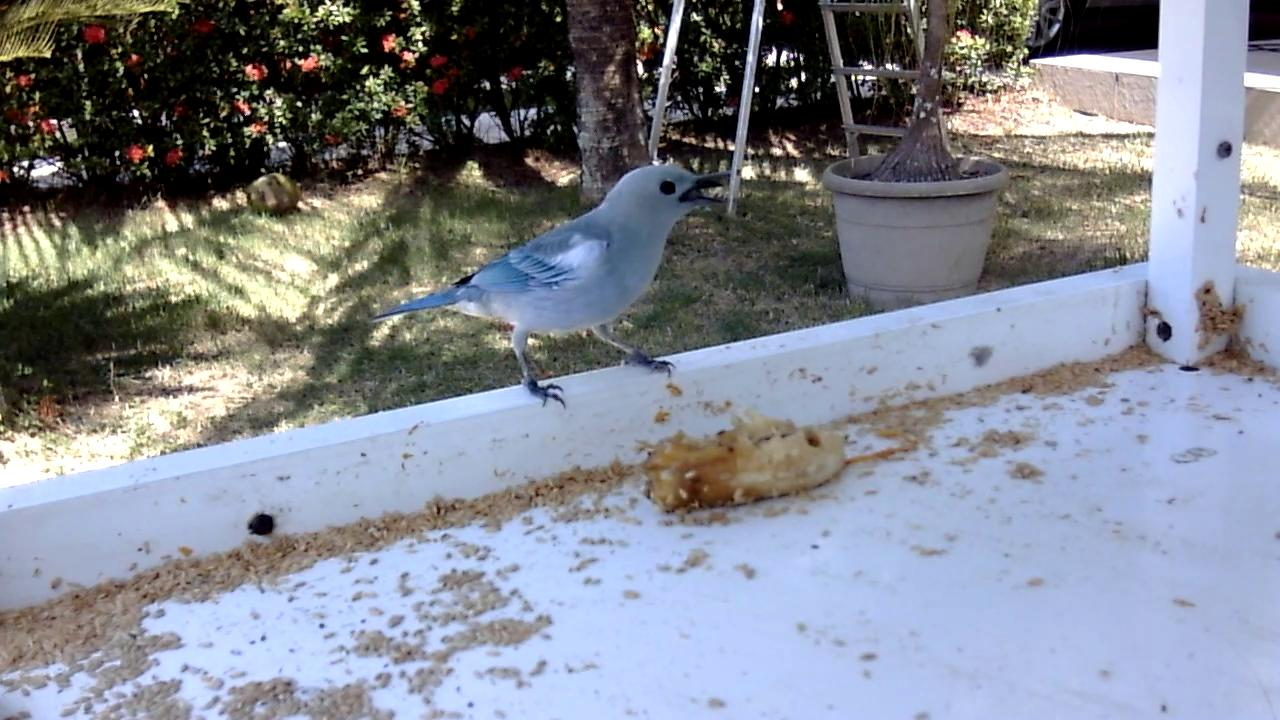sanhaco_da_amazonia: (376, 162, 726, 410)
